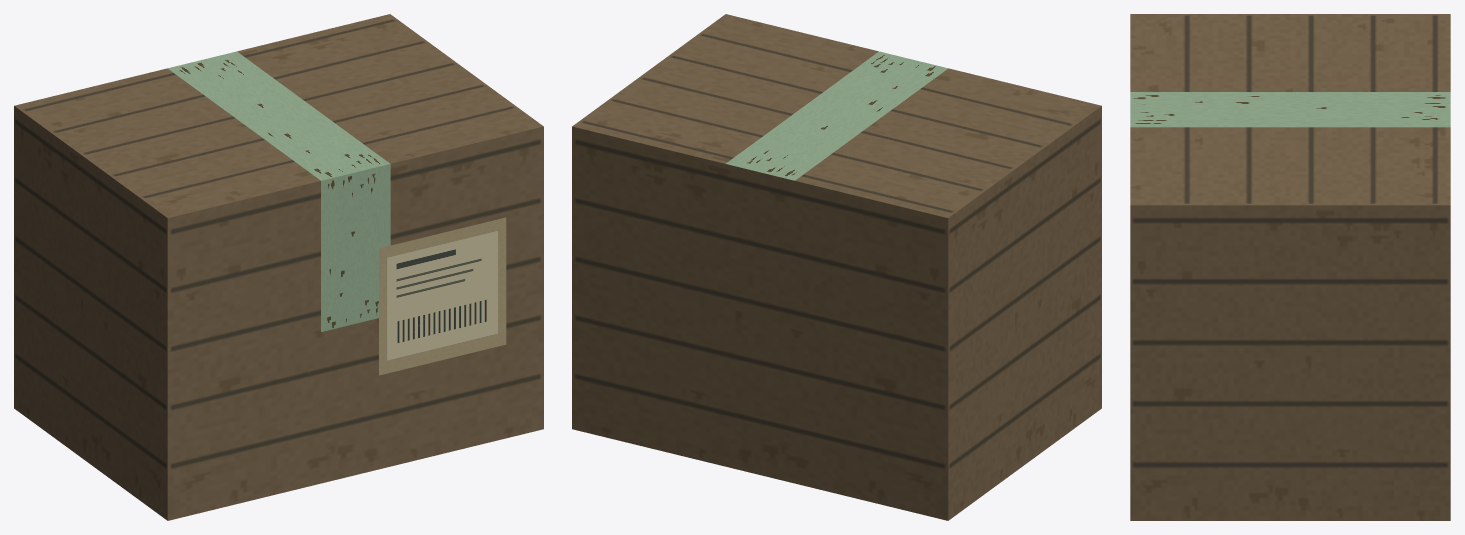
The model's file is ParcelBox.fbx.
3 renders of one model, left to right at view 1: azimuth 30°, elevation 25°; view 2: azimuth 150°, elevation 25°; view 3: azimuth 270°, elevation 25°, orthographic. The views are drawn at different scales.
Parts seen in each view (by area): view 1: ParcelBox; view 2: ParcelBox; view 3: ParcelBox.
Boxes of the visible parts, x1,y1,x2,y2 form: ParcelBox: (14, 14, 543, 520); ParcelBox: (572, 14, 1101, 520); ParcelBox: (1130, 14, 1450, 520).
Bounding box in the file's own units: 65 × 50 × 46.
